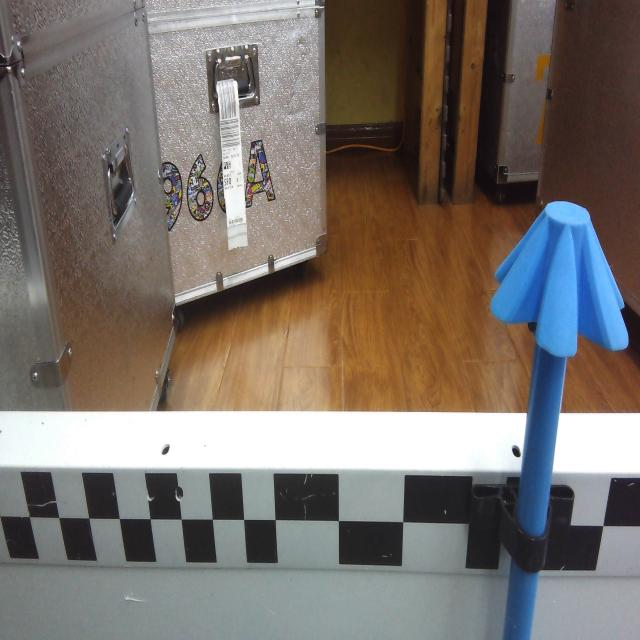zblue-Stake-Head: (490, 201, 629, 357)
